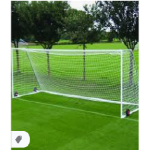goals: (11, 46, 139, 118)
